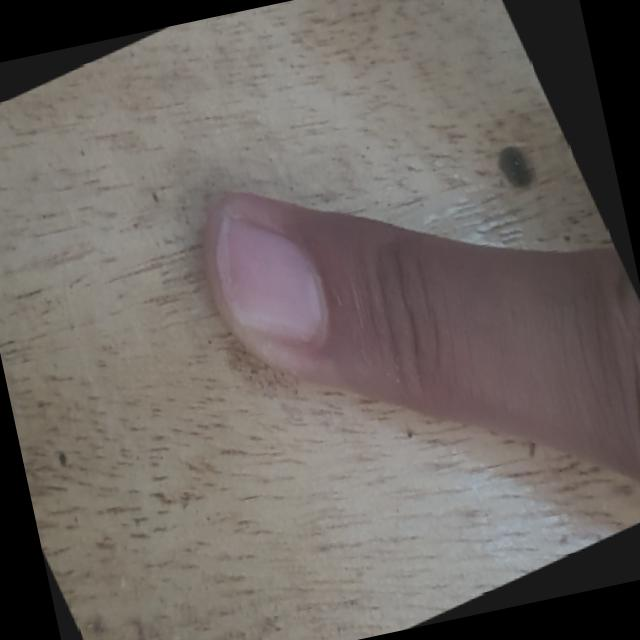Nail: (218, 217, 319, 340)
